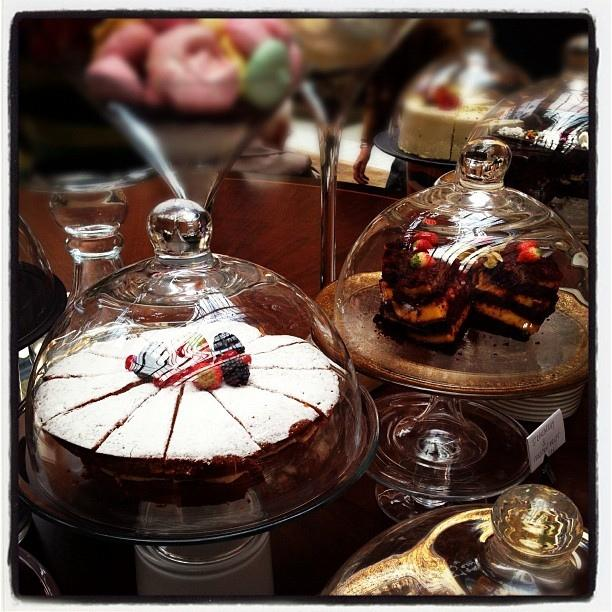blackberry: (221, 358, 250, 388), (213, 332, 245, 358)
